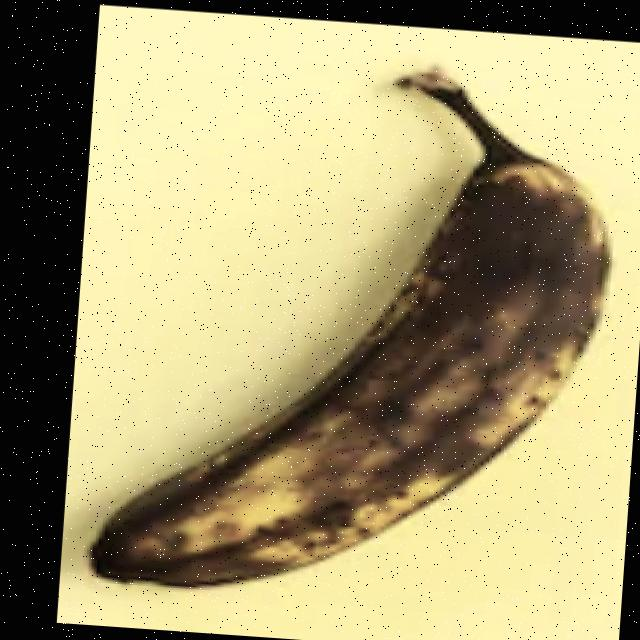Rotten: (72, 41, 634, 640)
